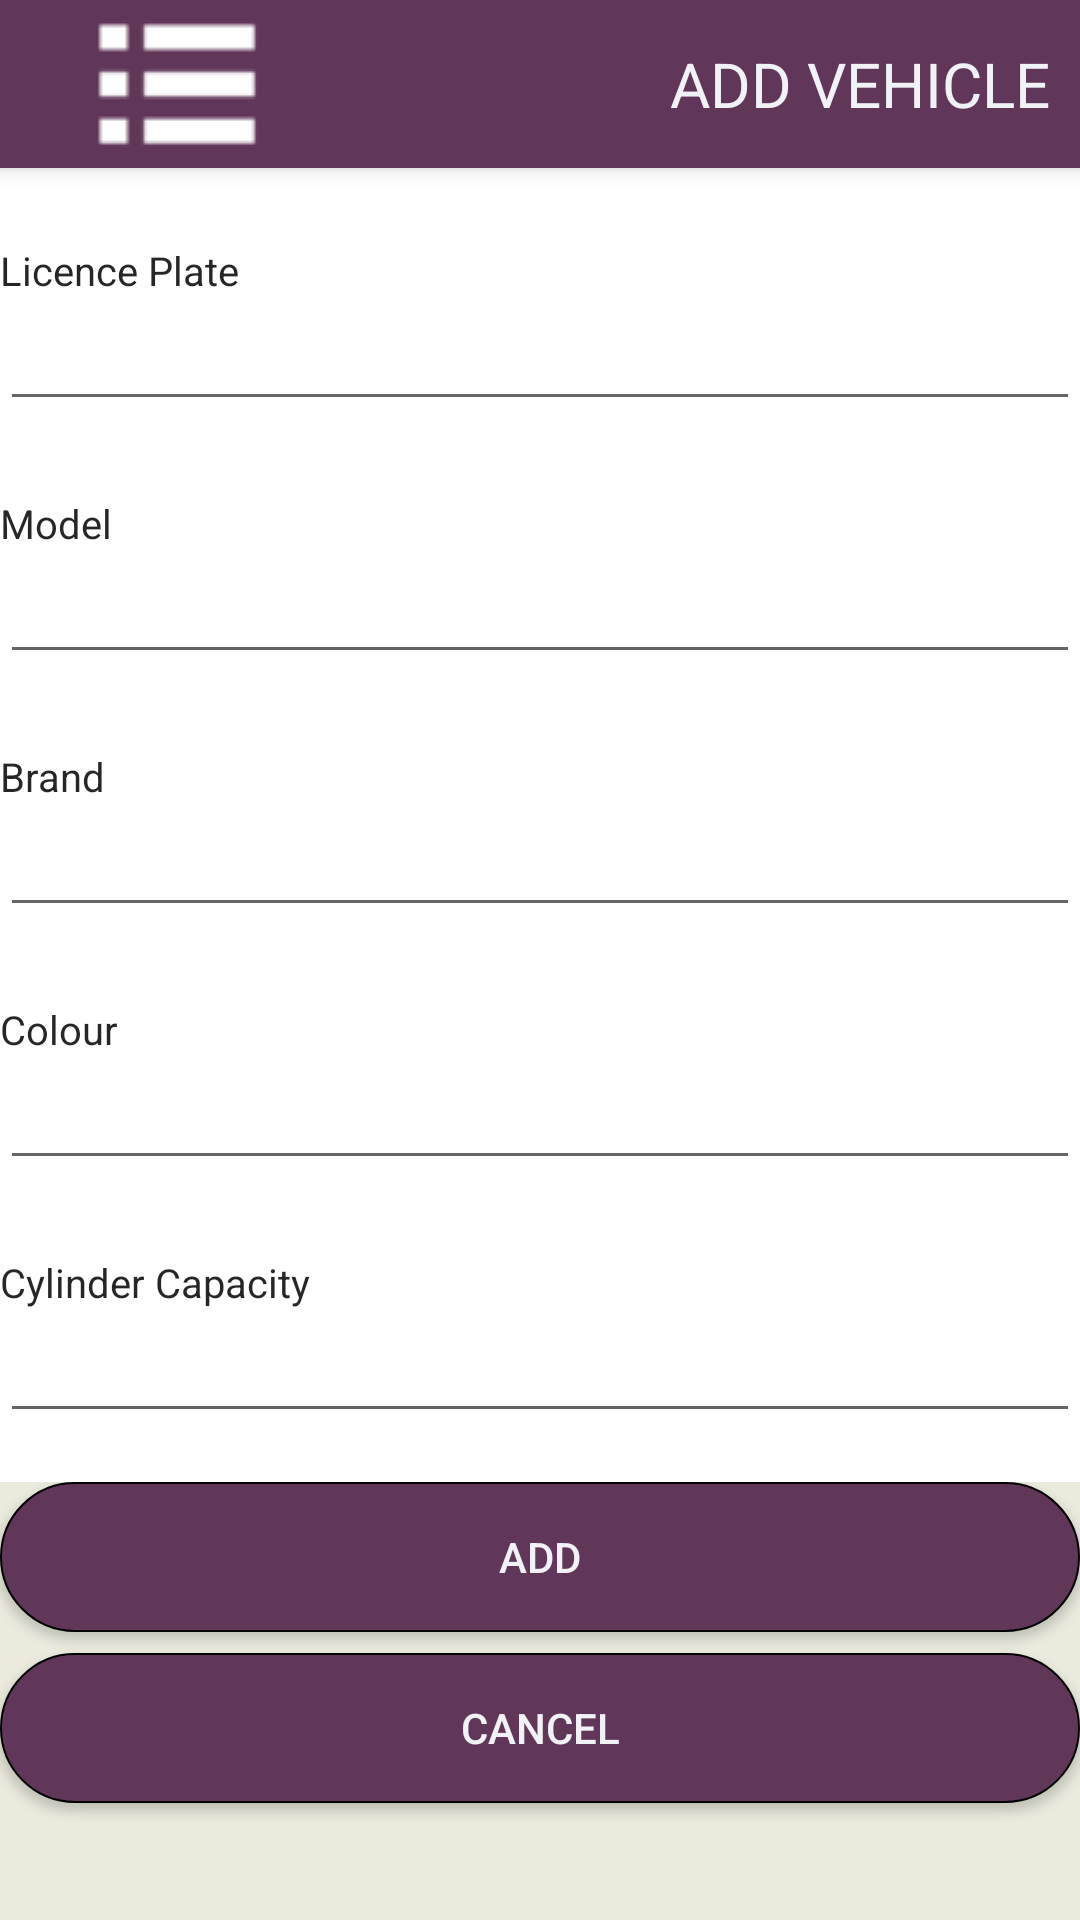

Icons on this 1080px×1920px Android screen, each with the point to tap as point (x, y):
menu: point (177, 84)
